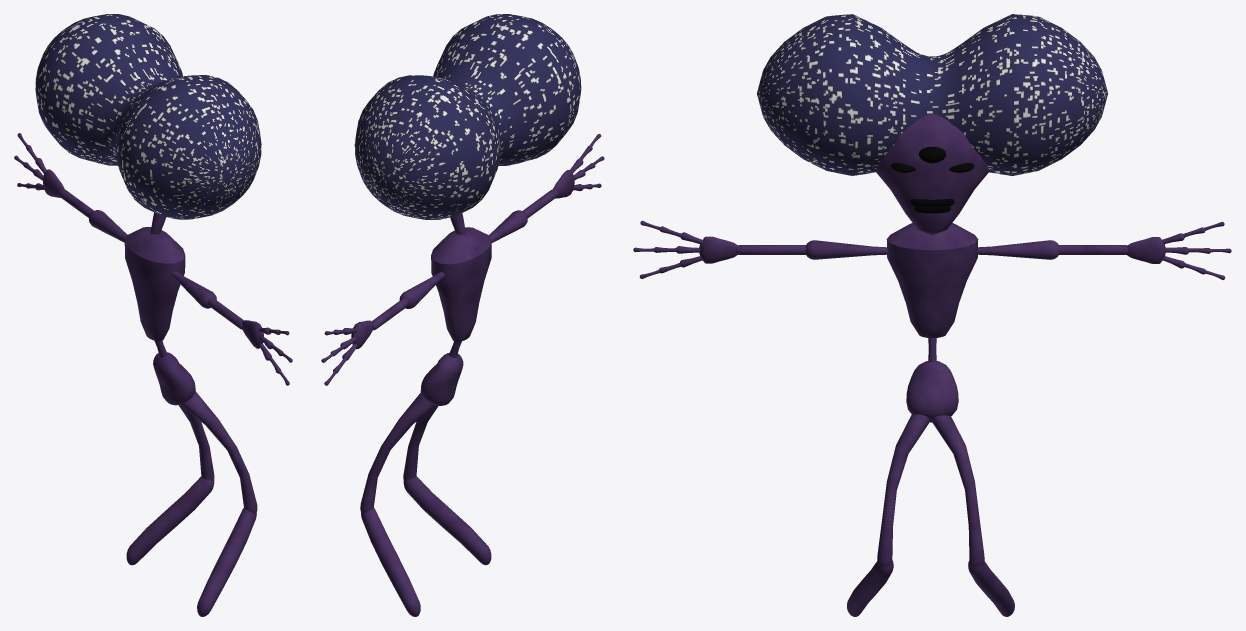
Rendered from borfusglow2.gltf.
The picture shows the model from 3 angles, left to right: view 1: azimuth 30°, elevation 25°; view 2: azimuth 150°, elevation 25°; view 3: azimuth 270°, elevation 25°; orthographic projection. The views are drawn at different scales.
Visible parts, largest first — view 1: berno; view 2: berno; view 3: berno.
Part boxes in pixels (x1,y1,x2,y2): berno: (14,14,292,616); berno: (321,14,604,616); berno: (633,14,1231,616).
Bounding box in the file's own units: 167 × 579 × 536.
1 material, 1 textured.
